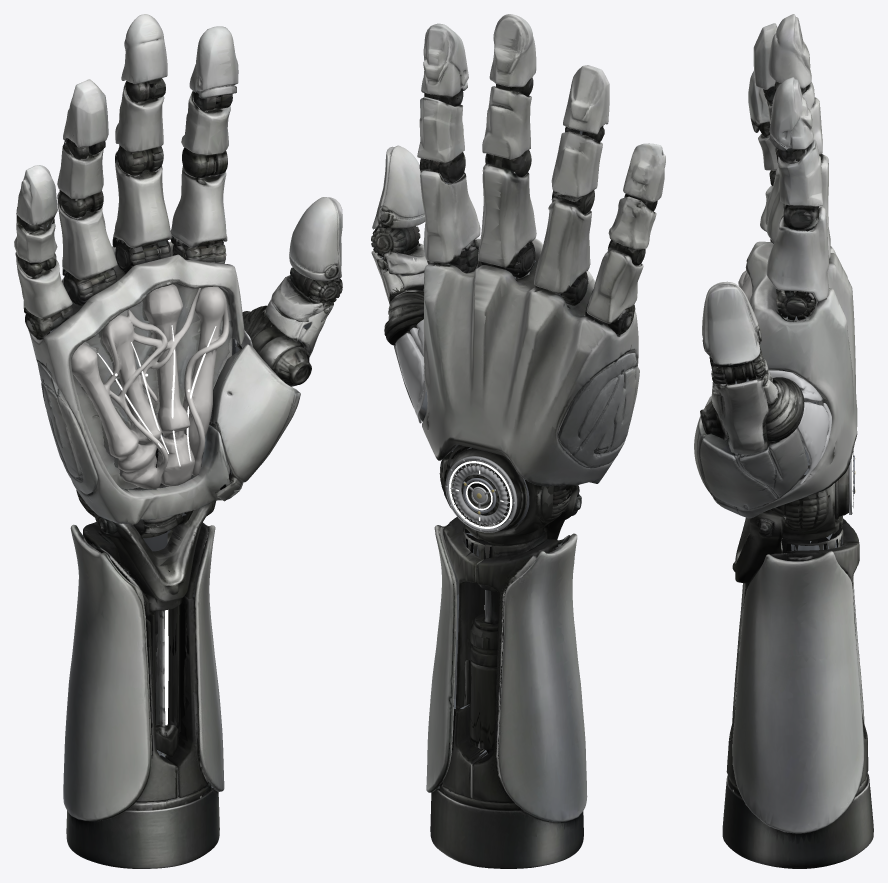
The model's file is hand_404_rigged.glb.
3 renders of one model, left to right at view 1: azimuth 30°, elevation 25°; view 2: azimuth 150°, elevation 25°; view 3: azimuth 270°, elevation 25°, orthographic.
Visible parts, largest first — view 1: Armor_Palm_MainBody, Armor_Forearm_Wing_Left, Bone_Palm_Metacarpal_Ulnar, Forearm_BaseCuff, Armor_Palm_ThenarModule, Wrist_Front_VArch, Armor_Forearm_Wing_Right, Bone_Palm_Metacarpal_Center, Bone_Palm_Metacarpal_Radial, Armor_Middle_Proximal, Armor_Thumb_Distal, Armor_Index_Proximal (+30 smaller); view 2: Armor_Palm_MainBody, Armor_Forearm_Wing_Left, Forearm_BaseCuff, Armor_Palm_UlnarShell, Forearm_Spine_Right, Forearm_Spine_Left, Armor_Forearm_Wing_Right, Armor_Middle_Proximal, Armor_Index_Proximal, Armor_Ring_Proximal, Armor_Thumb_Distal, Armor_Middle_Middle (+25 smaller); view 3: Armor_Forearm_Wing_Right, Armor_Palm_MainBody, Forearm_BaseCuff, Armor_Palm_ThenarModule, Armor_Thumb_Distal, Armor_Index_Proximal, Armor_Thumb_Proximal, Armor_Index_Distal, Wrist_Front_VArch, Armor_Middle_Distal, Armor_Palm_RadialDorsalPlate, Armor_Index_Middle (+17 smaller).
Part boxes in pixels (x1,y1,x2,y2): Armor_Palm_MainBody: (28,241,244,524); Armor_Forearm_Wing_Left: (63,524,151,821); Bone_Palm_Metacarpal_Ulnar: (71,288,200,488); Forearm_BaseCuff: (66,752,219,868); Armor_Palm_ThenarModule: (210,344,300,501); Wrist_Front_VArch: (94,501,215,601); Armor_Forearm_Wing_Right: (193,525,224,791); Bone_Palm_Metacarpal_Center: (144,284,194,485); Bone_Palm_Metacarpal_Radial: (183,286,229,475); Armor_Middle_Proximal: (112,151,171,248); Armor_Thumb_Distal: (289,197,342,281); Armor_Index_Proximal: (170,166,227,247); Armor_Palm_MainBody: (422,238,638,486); Armor_Forearm_Wing_Left: (498,533,587,822); Forearm_BaseCuff: (430,781,583,868); Armor_Palm_UlnarShell: (558,353,639,467); Forearm_Spine_Right: (443,517,496,750); Forearm_Spine_Left: (472,531,570,802); Armor_Forearm_Wing_Right: (426,525,458,792); Armor_Middle_Proximal: (478,164,536,267); Armor_Index_Proximal: (420,170,480,263); Armor_Ring_Proximal: (534,200,591,293); Armor_Thumb_Distal: (372,145,425,229); Armor_Middle_Middle: (482,86,531,159); Armor_Forearm_Wing_Right: (732,551,864,833); Armor_Palm_MainBody: (713,241,857,518); Forearm_BaseCuff: (722,773,873,868); Armor_Palm_ThenarModule: (694,396,807,509); Armor_Thumb_Distal: (702,281,761,367); Armor_Index_Proximal: (766,207,828,301); Armor_Thumb_Proximal: (711,374,772,454); Armor_Index_Distal: (769,77,813,151); Wrist_Front_VArch: (732,509,786,583); Armor_Middle_Distal: (768,14,811,88); Armor_Palm_RadialDorsalPlate: (769,370,831,484); Armor_Index_Middle: (778,139,823,206).
Bounding box in the file's own units: 8.4 × 22 × 4.37.
78 materials, 62 textured.
